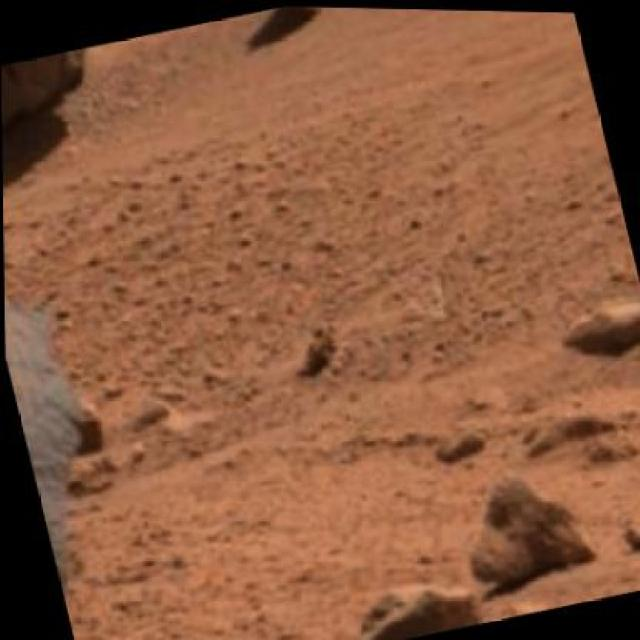rock: (0, 29, 180, 169), (446, 449, 611, 596), (332, 564, 492, 638), (254, 4, 503, 34), (606, 552, 639, 592)
